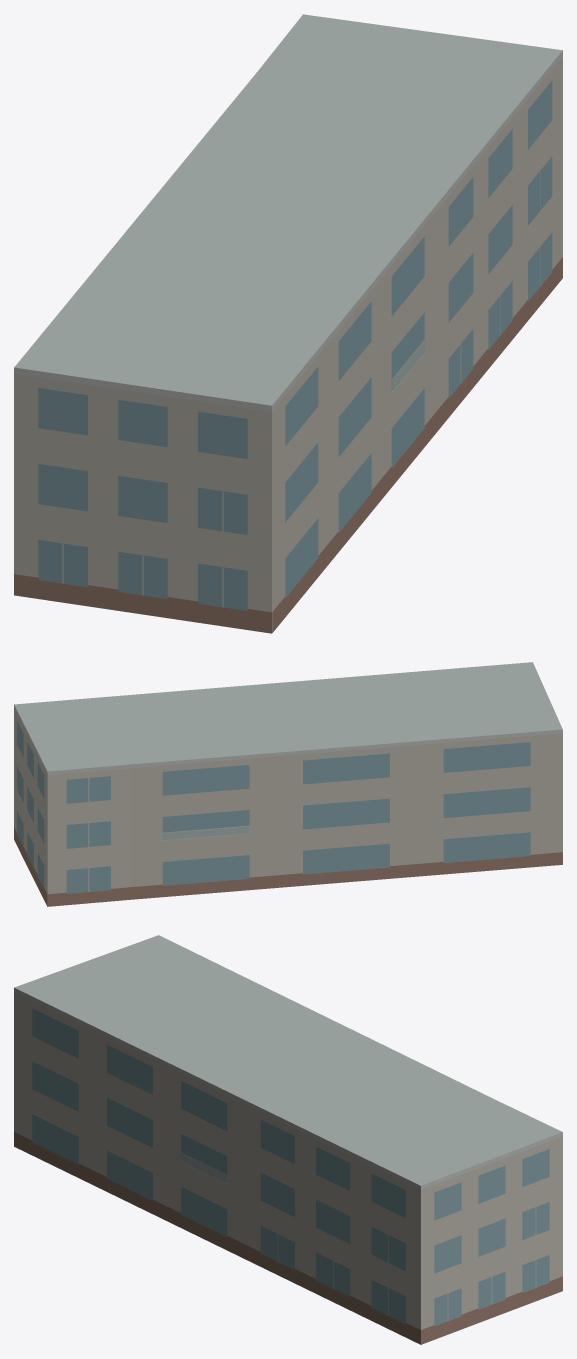
File: survey-upis-32966315.glb
3 views of the same model, one above another, from view 1: azimuth 30°, elevation 25°; view 2: azimuth 150°, elevation 25°; view 3: azimuth 270°, elevation 25° (orthographic). The views are drawn at different scales.
Parts seen in each view (by area): view 1: survey-upis-32966315.tmp; view 2: survey-upis-32966315.tmp; view 3: survey-upis-32966315.tmp.
Part boxes in pixels (box(x1,y1,x2,y2)): survey-upis-32966315.tmp: box(14, 14, 562, 633); survey-upis-32966315.tmp: box(14, 662, 562, 906); survey-upis-32966315.tmp: box(14, 935, 562, 1344).
Size of the model in its own units: 30.95 by 9.15 by 28.63.
